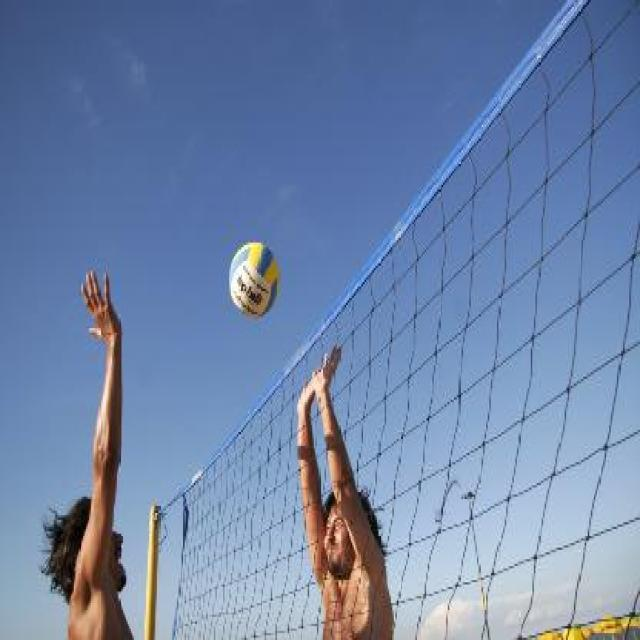volleyball: (230, 242, 278, 320)
